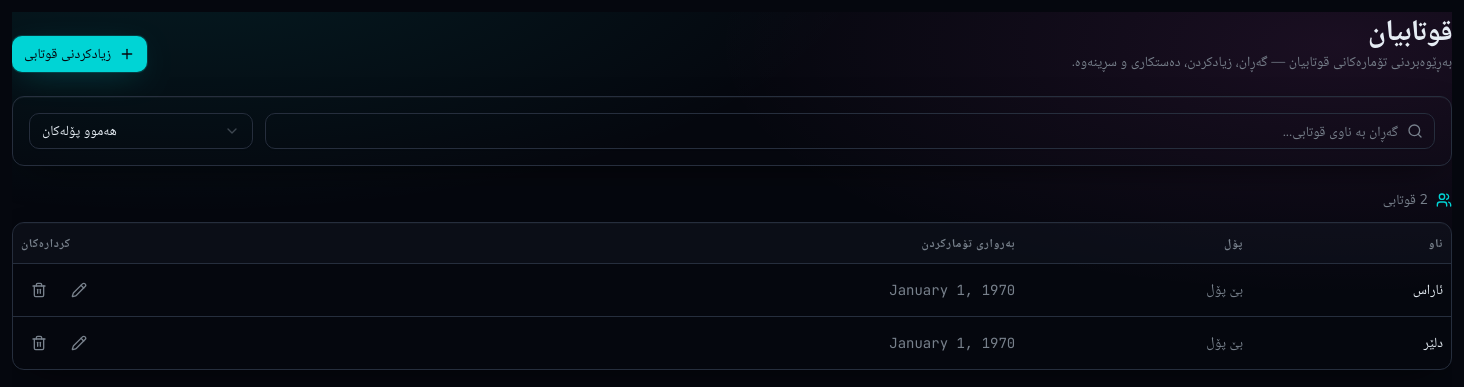
Test: StudentsPage › filters the list by the search term
Check: the text "ئاراس" is shown, box [1251,263,1451,316]
Check: the text "دلێر" is shown, box [1251,316,1451,368]
Type "ئاراس" into the field with test id "students.search_input" at point(850, 131), box [265,113,1435,149]
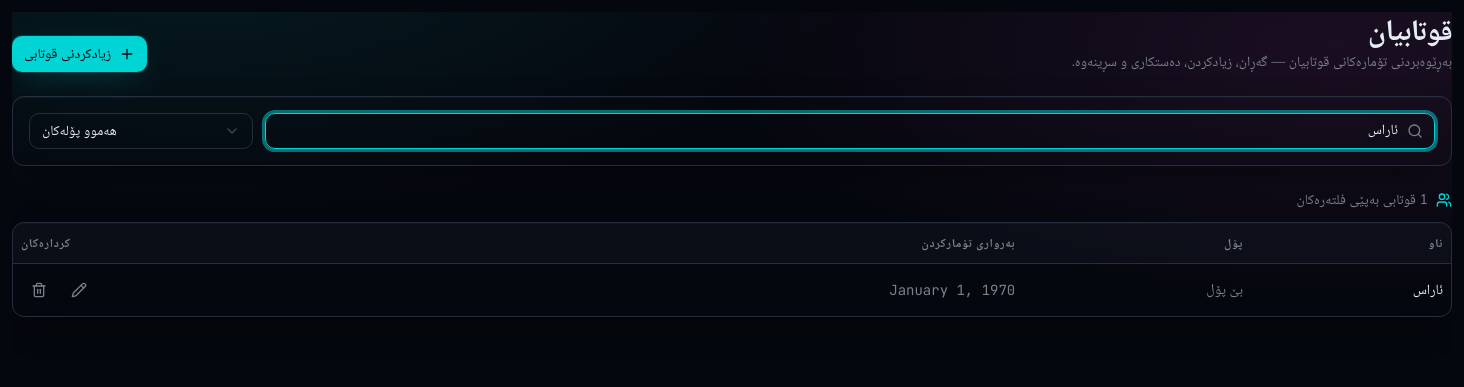
Check: the text "ئاراس" is shown, box [1251,263,1451,316]
Check: the text "دلێر" is gone
